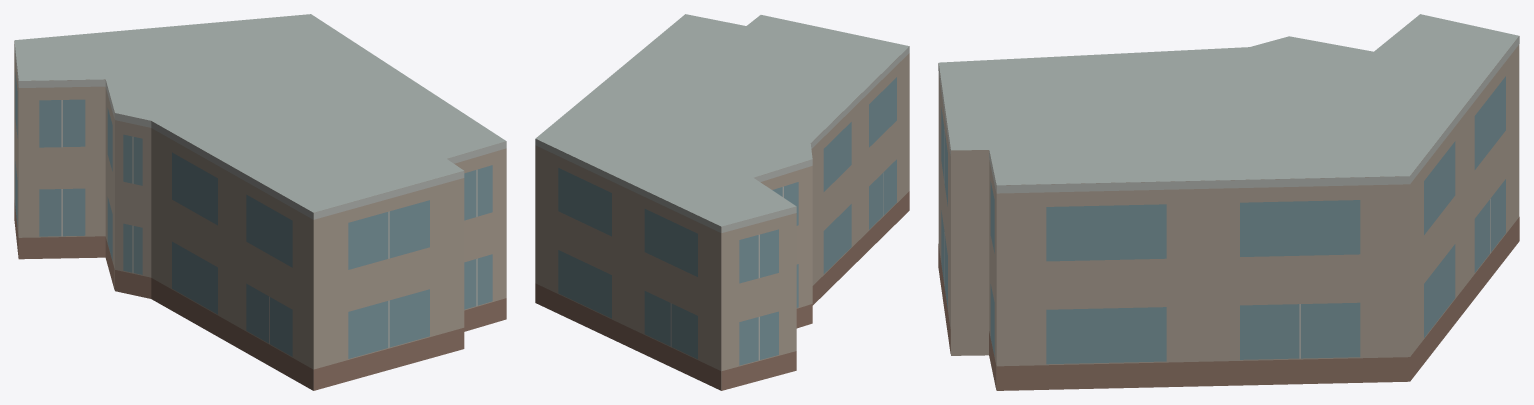
The model's file is survey-upis-32957599.glb.
3 renders of one model, left to right at view 1: azimuth 30°, elevation 25°; view 2: azimuth 150°, elevation 25°; view 3: azimuth 270°, elevation 25°, orthographic. The views are drawn at different scales.
Parts seen in each view (by area): view 1: survey-upis-32957599.tmp; view 2: survey-upis-32957599.tmp; view 3: survey-upis-32957599.tmp.
Part boxes in pixels (x1,y1,x2,y2): survey-upis-32957599.tmp: (14,14,506,390); survey-upis-32957599.tmp: (535,14,909,390); survey-upis-32957599.tmp: (938,14,1519,390).
Size of the model in its own units: 10.91 by 6.1 by 15.63.
